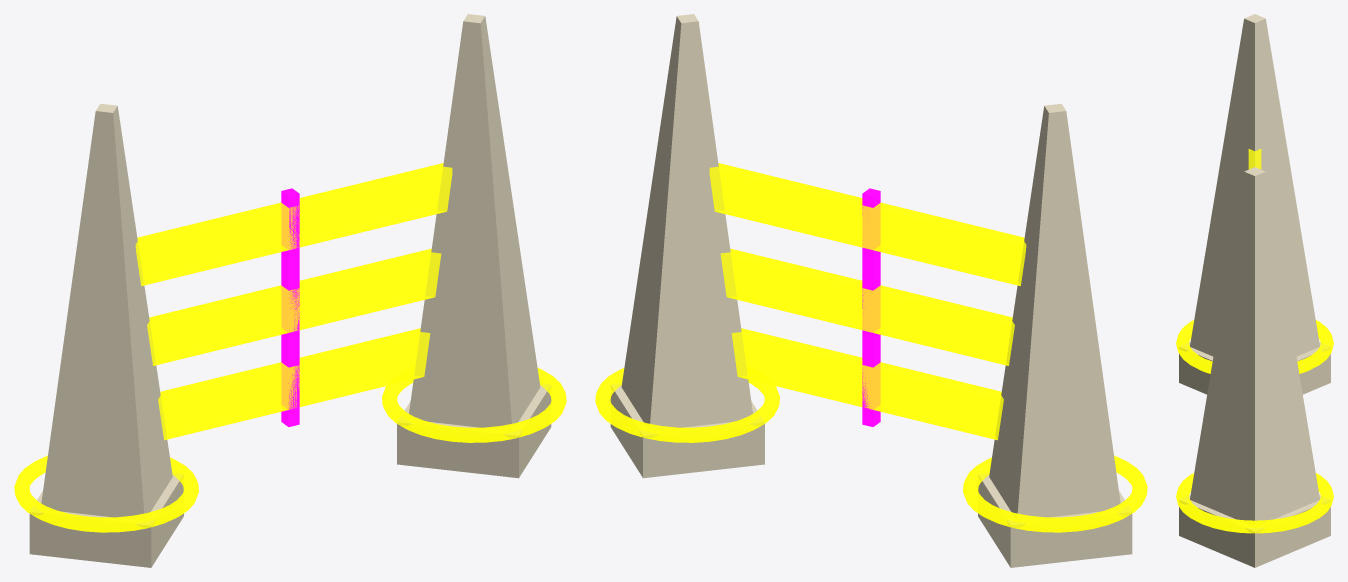
The model's file is solar_monolith_wall.glb.
3 views of the same model, side by side, from view 1: azimuth 30°, elevation 25°; view 2: azimuth 150°, elevation 25°; view 3: azimuth 270°, elevation 25° (orthographic). The views are drawn at different scales.
Parts seen in each view (by area): view 1: SolarMonolithWall; view 2: SolarMonolithWall; view 3: SolarMonolithWall.
Boxes of the visible parts, <box> form: SolarMonolithWall: <box>14,14,566,567</box>; SolarMonolithWall: <box>595,14,1147,567</box>; SolarMonolithWall: <box>1176,14,1333,567</box>.
Size of the model in its own units: 2.87 by 2.22 by 0.872.
